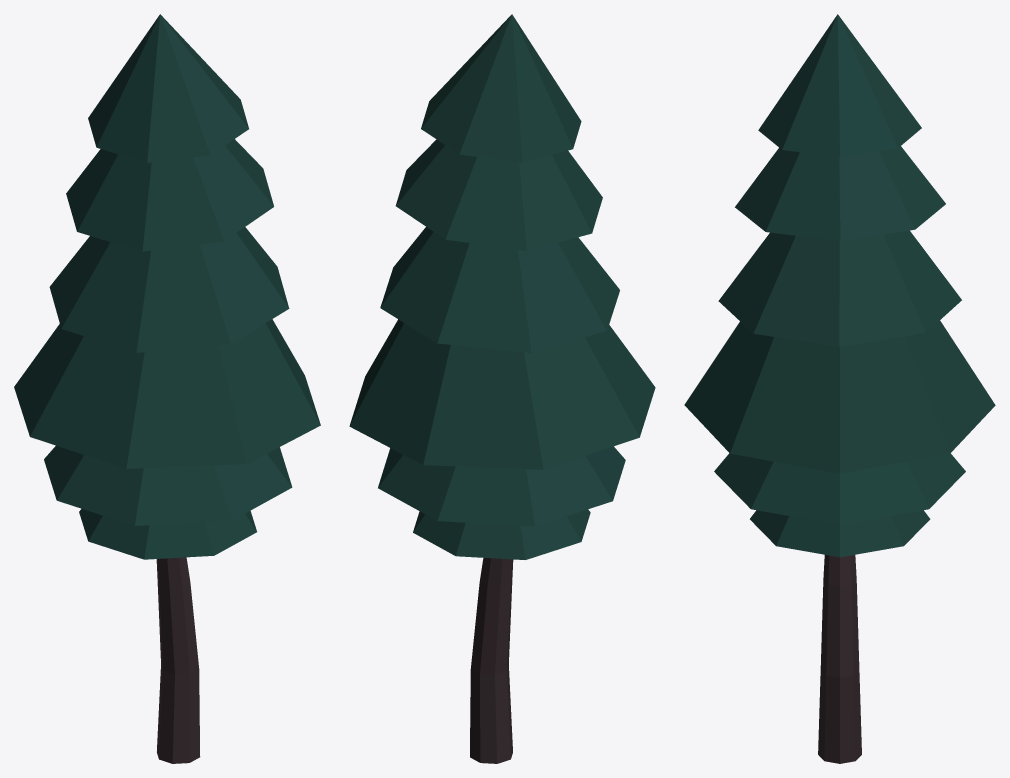
File: tree1.gltf
The picture shows the model from 3 angles, left to right: view 1: azimuth 30°, elevation 25°; view 2: azimuth 150°, elevation 25°; view 3: azimuth 270°, elevation 25°; orthographic projection. The views are drawn at different scales.
Parts seen in each view (by area): view 1: tree1; view 2: tree1; view 3: tree1.
Boxes of the visible parts, x1,y1,x2,y2 form: tree1: (14, 14, 320, 763); tree1: (349, 14, 655, 763); tree1: (684, 14, 995, 763).
Size of the model in its own units: 5.3 by 13.75 by 5.3.
